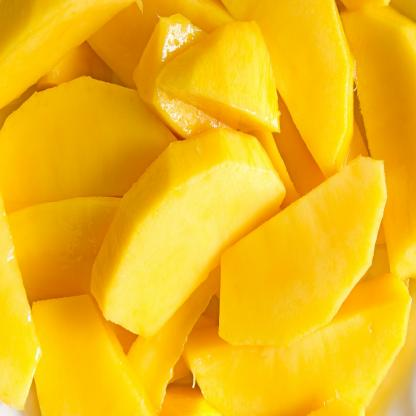--: (0, 1, 416, 416), (87, 133, 300, 357), (198, 140, 395, 366)
